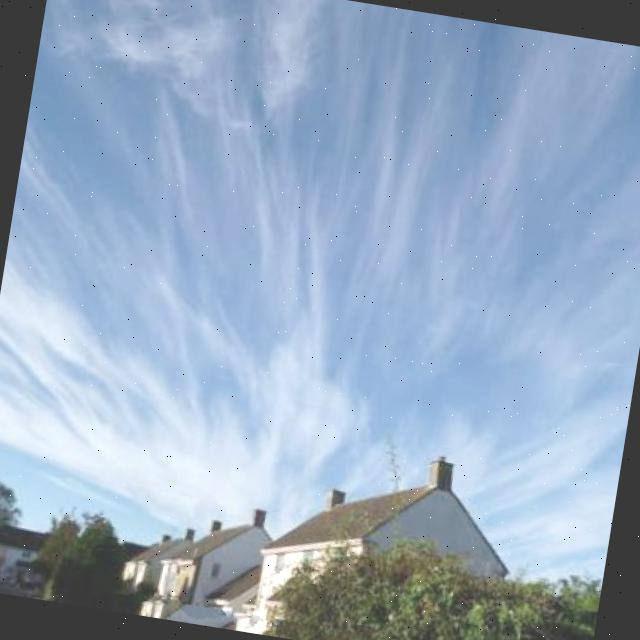Ci: (1, 1, 640, 440)
